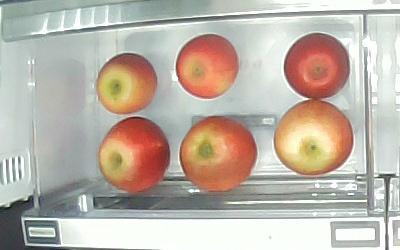apple: (272, 98, 355, 175), (178, 114, 258, 193), (97, 116, 171, 193), (283, 32, 350, 99), (175, 33, 239, 98), (95, 52, 158, 115)
